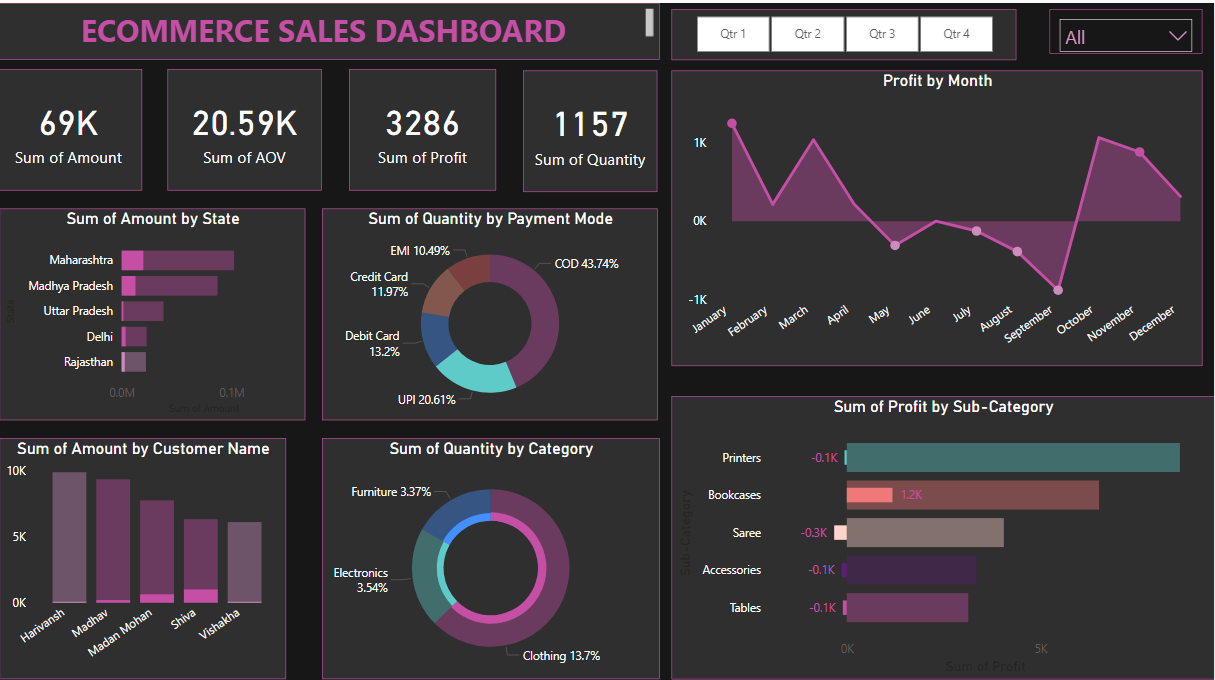

What the dashboard file says about the page in this screenshot:
{"tool":"powerbi","page":{"name":"Page 1","canvas":[1280,720],"ordinal":0},"visuals":[{"type":"areaChart","title":"Profit by Month","fields":{"Category":["Orders.Order Date.Variation.Date Hierarchy.Month"],"Y":["Details.Profit"]},"box":[714.3,70.3,553.3,307.9],"z":0},{"type":"clusteredBarChart","fields":{"Category":["Details.Sub-Category"],"Y":["Details.Profit"]},"box":[714.3,409.5,565.8,295.4],"z":1000},{"type":"donutChart","fields":{"Y":["Details.Quantity"],"Category":["Details.Category"]},"box":[350.1,453.3,351.7,251.6],"z":2000},{"type":"donutChart","title":"Sum of Quantity by Payment Mode","fields":{"Y":["Details.Quantity"],"Category":["Details.PaymentMode"]},"box":[350.1,214.1,350.1,220.4],"z":3000},{"type":"card","fields":{"Values":["Details.Amount"]},"box":[9.4,68,153.1,126.6],"z":4000},{"type":"card","fields":{"Values":["Details.Quantity"]},"box":[559.4,69.9,139.8,126.6],"z":5000},{"type":"card","fields":{"Values":["Details.AOV"]},"box":[189,68,160.6,126.6],"z":6000},{"type":"card","fields":{"Values":["Details.Profit"]},"box":[378,68,153.1,126.6],"z":7000},{"type":"clusteredBarChart","fields":{"Category":["Orders.State"],"Y":["Details.Amount"]},"box":[14.1,214.1,318.8,220.4],"z":8000},{"type":"columnChart","title":"Sum of Amount by Customer Name","fields":{"Y":["Details.Amount"],"Category":["Orders.CustomerName"]},"box":[14.1,453.3,298.5,251.6],"z":9000},{"type":"textbox","box":[9.4,0,692.4,59.4],"z":10000},{"type":"slicer","fields":{"Values":["Orders.Order Date.Variation.Date Hierarchy.Quarter"]},"box":[714.3,6.3,359.5,53.1],"z":11000},{"type":"slicer","fields":{"Values":["Orders.State"]},"box":[1108.2,6.3,159.4,46.9],"z":12000}]}

Visuals, with their boxes in screenshot pixels (x1, y1, x2, y2), scaled from the page's 1280x720 canvas onto the 1215x680 screenshot:
"Profit by Month" areaChart: (678,66,1203,357)
clusteredBarChart - Details.Sub-Category x Details.Profit: (678,387,1214,666)
donutChart - Details.Quantity x Details.Category: (332,428,666,666)
"Sum of Quantity by Payment Mode" donutChart: (332,202,665,410)
card - Details.Amount: (9,64,154,184)
card - Details.Quantity: (531,66,664,186)
card - Details.AOV: (179,64,332,184)
card - Details.Profit: (359,64,504,184)
clusteredBarChart - Orders.State x Details.Amount: (13,202,316,410)
"Sum of Amount by Customer Name" columnChart: (13,428,297,666)
textbox: (9,0,666,56)
slicer - Orders.Order Date.Variation.Date Hierarchy.Quarter: (678,6,1019,56)
slicer - Orders.State: (1052,6,1203,50)
